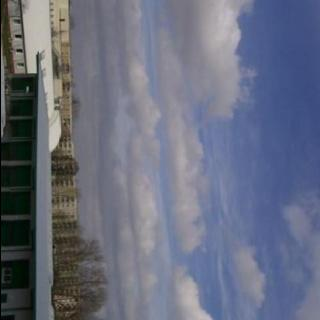Cumulus: (62, 0, 320, 320)
